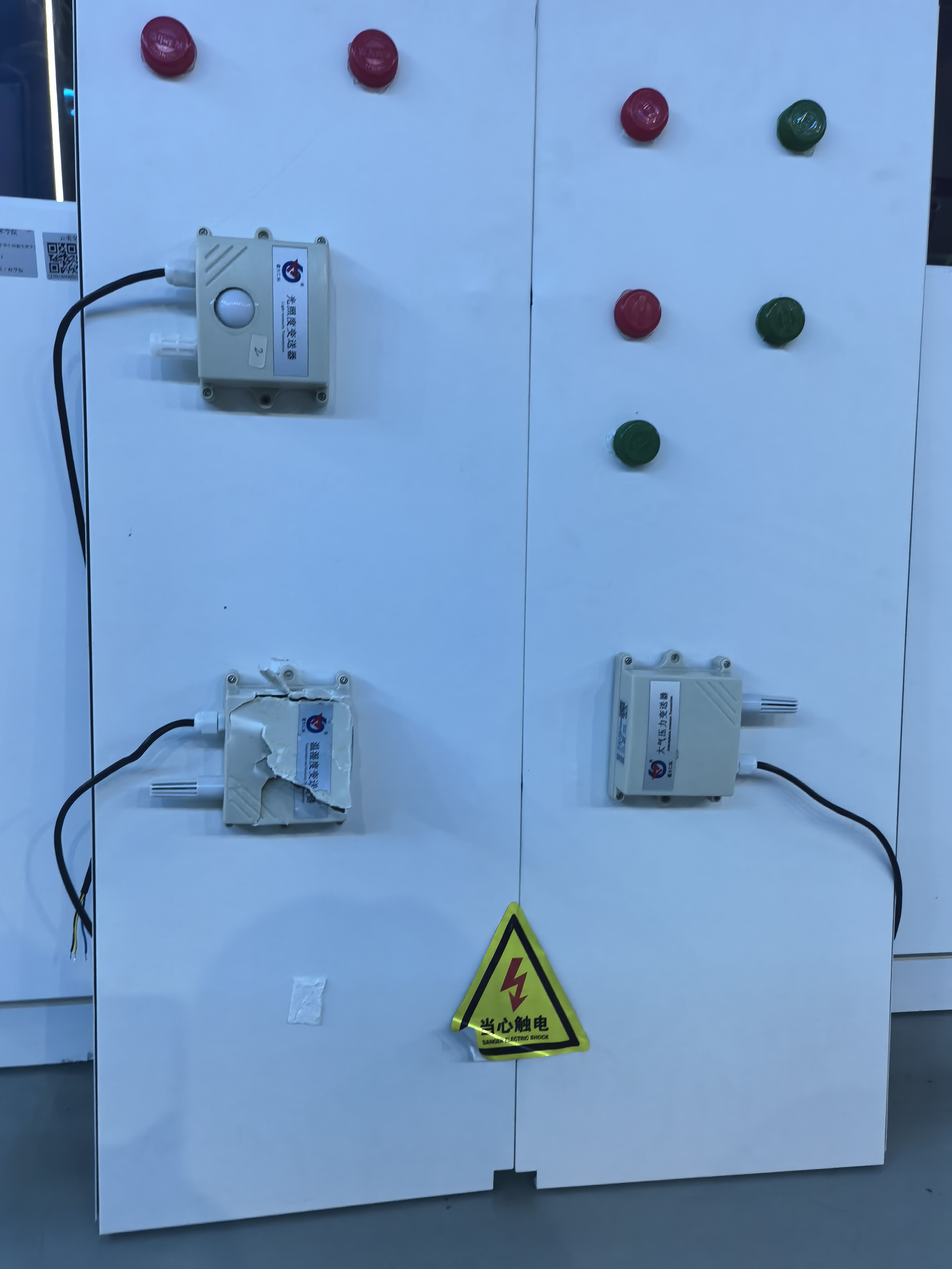red_warning: (125, 4, 211, 85), (603, 63, 670, 159), (333, 20, 412, 96), (607, 268, 684, 342)
sensor_damage: (137, 634, 372, 841)
